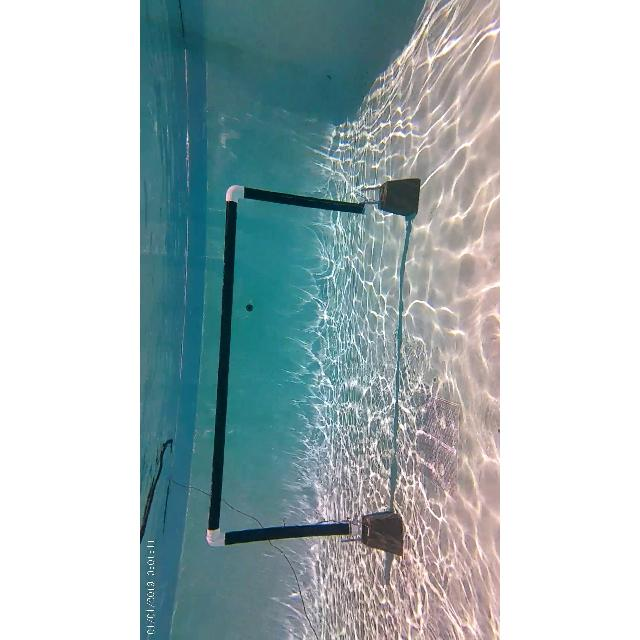prequal gate: (206, 185, 370, 547)
prequal gate leg l: (198, 508, 406, 560)
prequal gate leg r: (217, 175, 428, 225)
